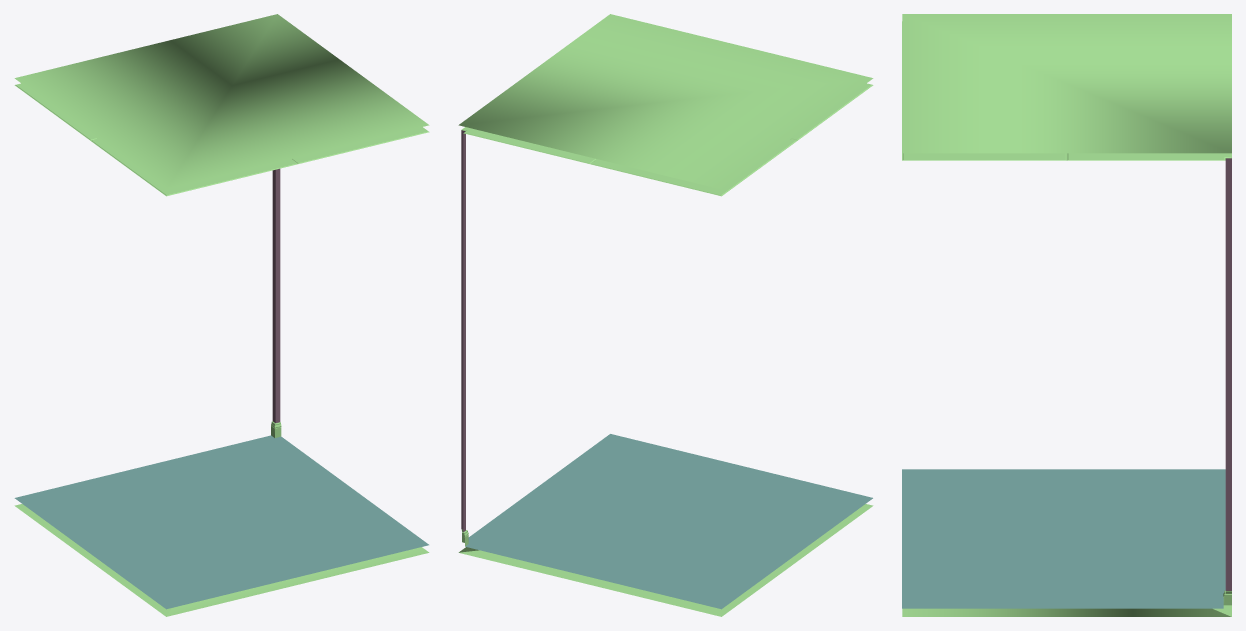
Rendered from Room_2x2_corner_out_no_walls_geo.fbx.
3 renders of one model, left to right at view 1: azimuth 30°, elevation 25°; view 2: azimuth 150°, elevation 25°; view 3: azimuth 270°, elevation 25°, orthographic. The views are drawn at different scales.
Parts seen in each view (by area): view 1: Room_2x2_corner_out_no_walls_geo; view 2: Room_2x2_corner_out_no_walls_geo; view 3: Room_2x2_corner_out_no_walls_geo.
Boxes of the visible parts, x1,y1,x2,y2 form: Room_2x2_corner_out_no_walls_geo: (14,14,429,616); Room_2x2_corner_out_no_walls_geo: (458,14,873,616); Room_2x2_corner_out_no_walls_geo: (902,14,1231,616).
Bounding box in the file's own units: 2 × 3.1 × 2.
